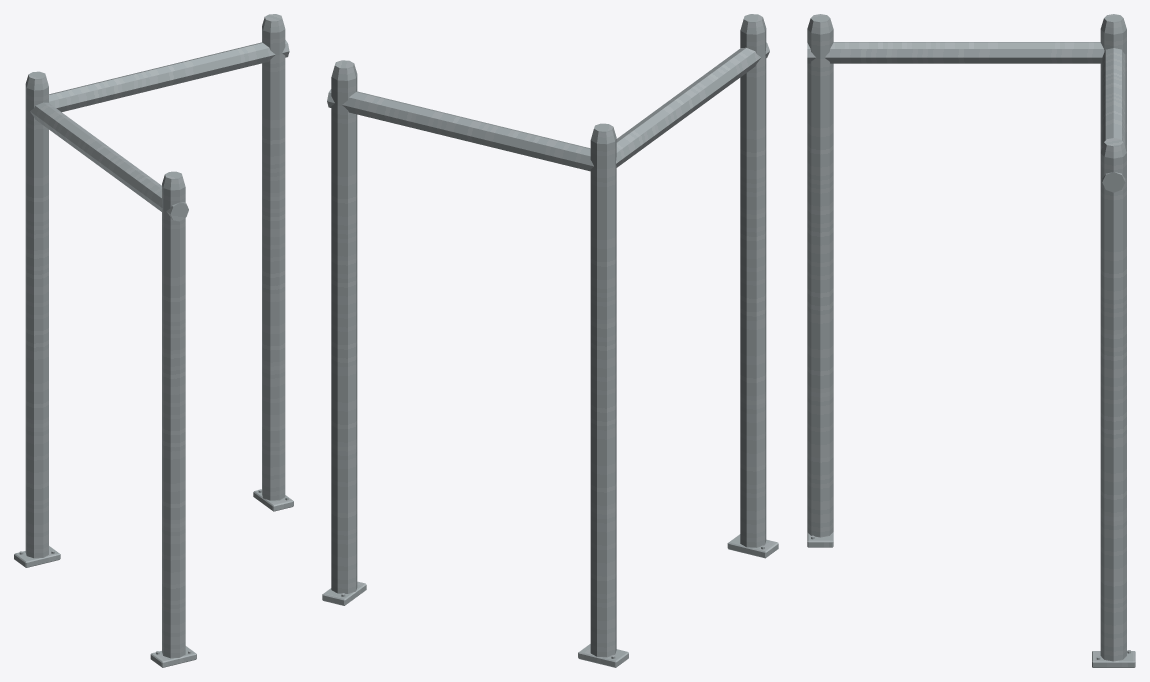
The model's file is pool_guardrail_corner.glb.
The picture shows the model from 3 angles, left to right: view 1: azimuth 30°, elevation 25°; view 2: azimuth 150°, elevation 25°; view 3: azimuth 270°, elevation 25°; orthographic projection. The views are drawn at different scales.
Parts seen in each view (by area): view 1: core_pool_guardrail_corner; view 2: core_pool_guardrail_corner; view 3: core_pool_guardrail_corner.
Part boxes in pixels (bbox=[...]): core_pool_guardrail_corner: bbox=[14, 14, 293, 667]; core_pool_guardrail_corner: bbox=[322, 14, 778, 667]; core_pool_guardrail_corner: bbox=[807, 14, 1135, 667].
Bounding box in the file's own units: 0.6 × 1.05 × 0.6.
1 material, 1 textured.
